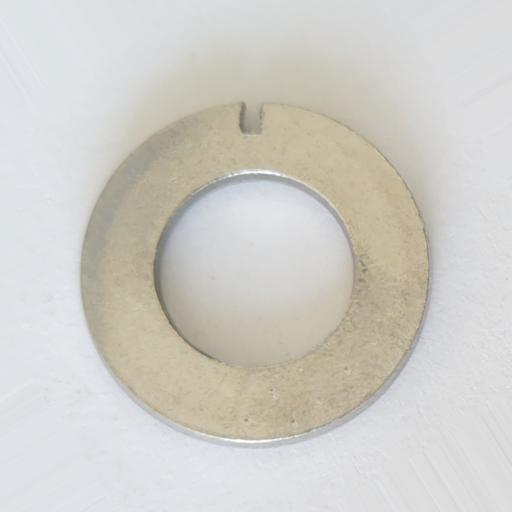burr: (238, 101, 266, 137)
